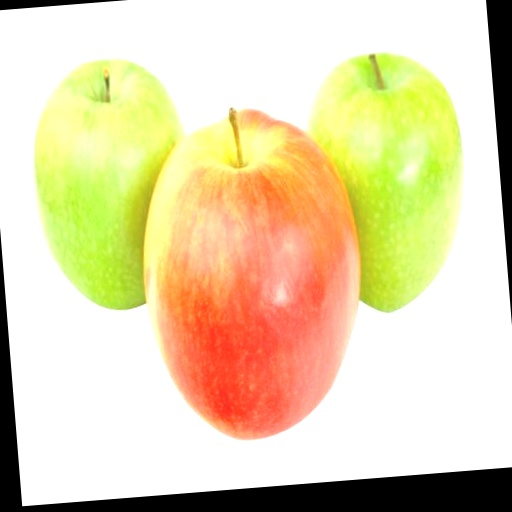fruit: (144, 109, 358, 439), (307, 53, 463, 311), (33, 59, 183, 309)
